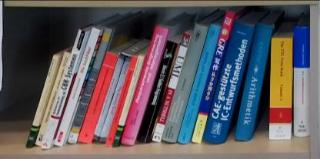book-spine: (203, 21, 255, 146), (120, 25, 170, 148), (191, 11, 236, 144), (162, 22, 210, 145), (41, 28, 89, 150), (54, 27, 102, 147), (177, 23, 222, 146), (68, 26, 114, 145), (235, 22, 273, 143), (137, 39, 178, 144), (152, 33, 191, 143), (78, 52, 119, 145), (92, 53, 132, 144), (34, 51, 71, 148), (25, 55, 61, 150), (110, 54, 146, 148), (105, 55, 138, 148), (269, 38, 293, 141), (292, 27, 310, 138)
